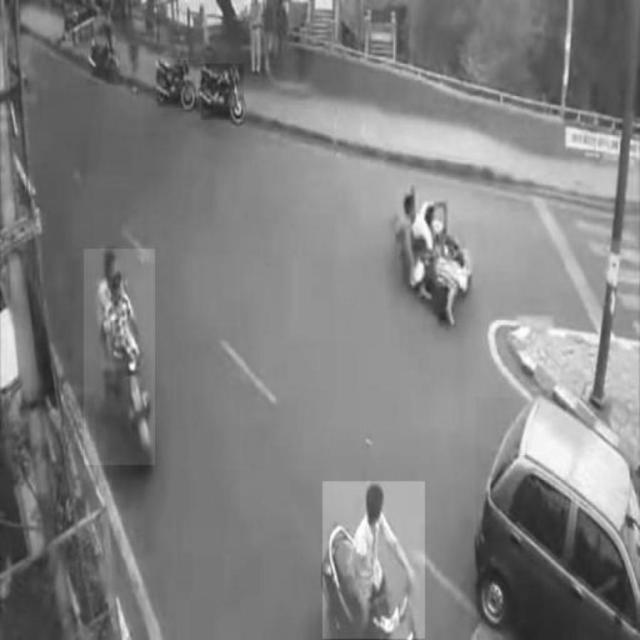accident: (398, 188, 475, 312)
vehicle: (476, 397, 640, 639), (323, 482, 426, 639), (84, 249, 155, 465), (202, 64, 244, 120), (158, 61, 196, 108)
